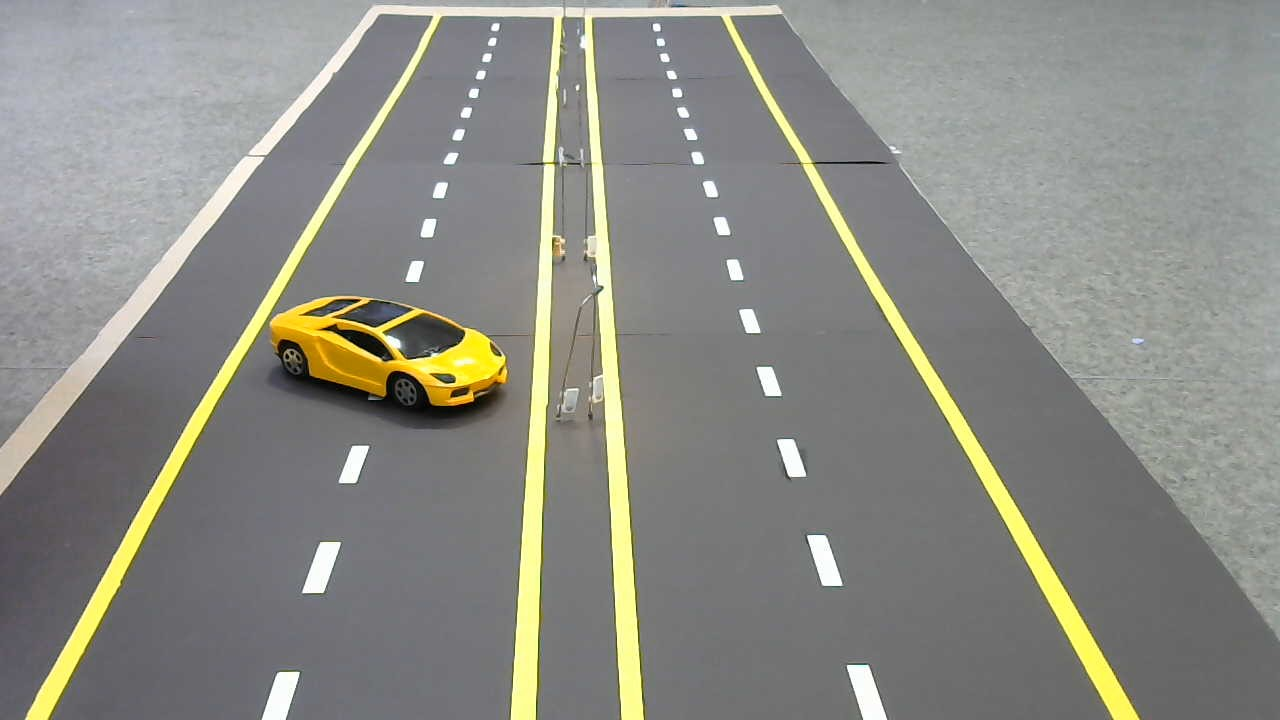overturn_car: (266, 288, 511, 427)
